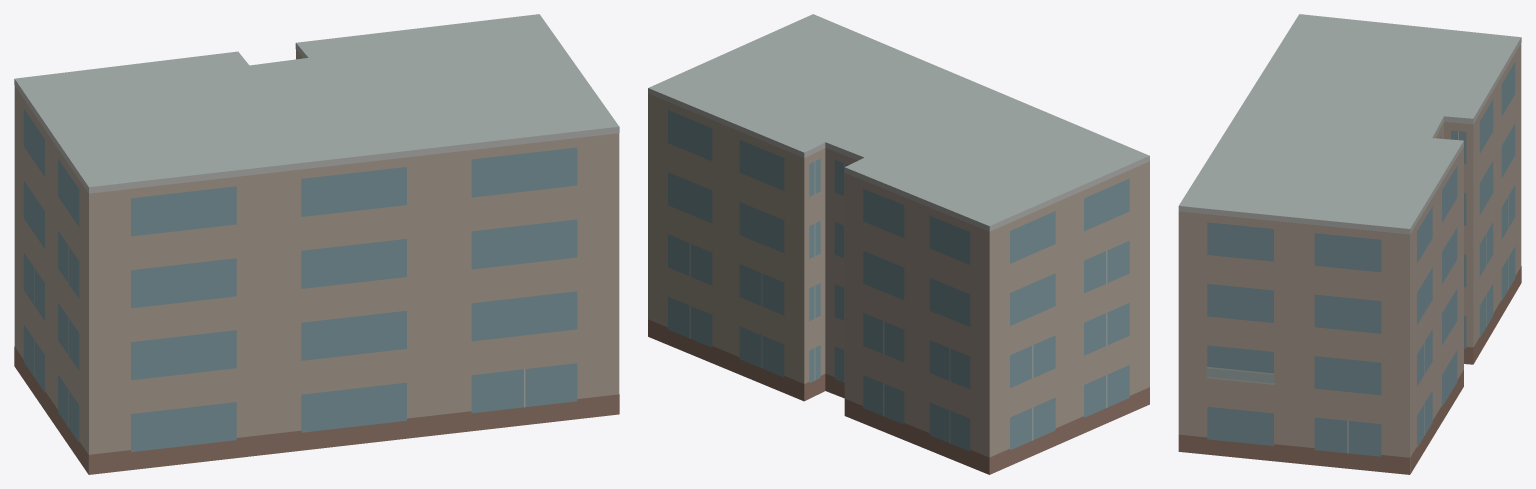
The model's file is survey-upis-32939277.glb.
3 views of the same model, side by side, from view 1: azimuth 30°, elevation 25°; view 2: azimuth 150°, elevation 25°; view 3: azimuth 270°, elevation 25° (orthographic). The views are drawn at different scales.
Visible parts, largest first — view 1: survey-upis-32939277.tmp; view 2: survey-upis-32939277.tmp; view 3: survey-upis-32939277.tmp.
Part boxes in pixels (left/top/right/bottom): survey-upis-32939277.tmp: left=14, top=14, right=619, bottom=474; survey-upis-32939277.tmp: left=648, top=14, right=1149, bottom=474; survey-upis-32939277.tmp: left=1178, top=14, right=1521, bottom=474.
Size of the model in its own units: 20.46 by 10.9 by 13.78.
